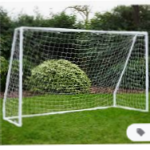goals: (1, 25, 150, 126)
